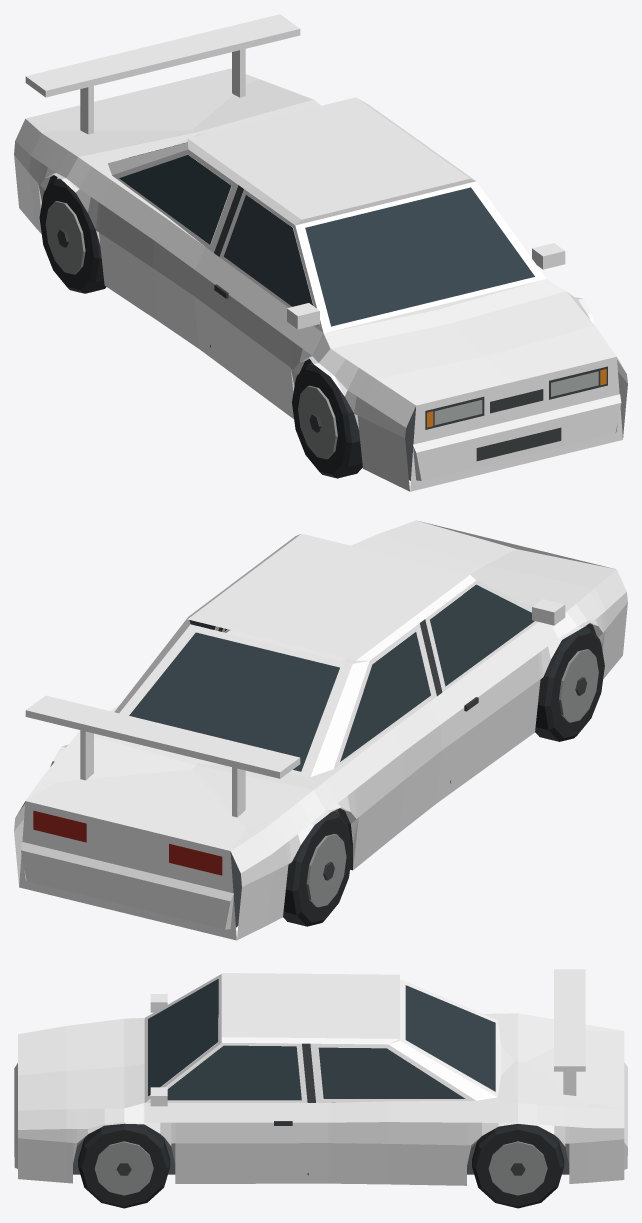
The model's file is whitlock_wildfire_corrida.glb.
The picture shows the model from 3 angles, top to bottom: view 1: azimuth 30°, elevation 25°; view 2: azimuth 150°, elevation 25°; view 3: azimuth 270°, elevation 25°; orthographic projection. The views are drawn at different scales.
Visible parts, largest first — view 1: whitlock_wildfire_corrida; view 2: whitlock_wildfire_corrida; view 3: whitlock_wildfire_corrida.
Part boxes in pixels (<box>): whitlock_wildfire_corrida: <box>14,14,627,491</box>; whitlock_wildfire_corrida: <box>14,520,627,940</box>; whitlock_wildfire_corrida: <box>14,969,627,1208</box>.
Bounding box in the file's own units: 1.7 × 1.2 × 4.3.
Materials: 8 (1 with a texture image).
